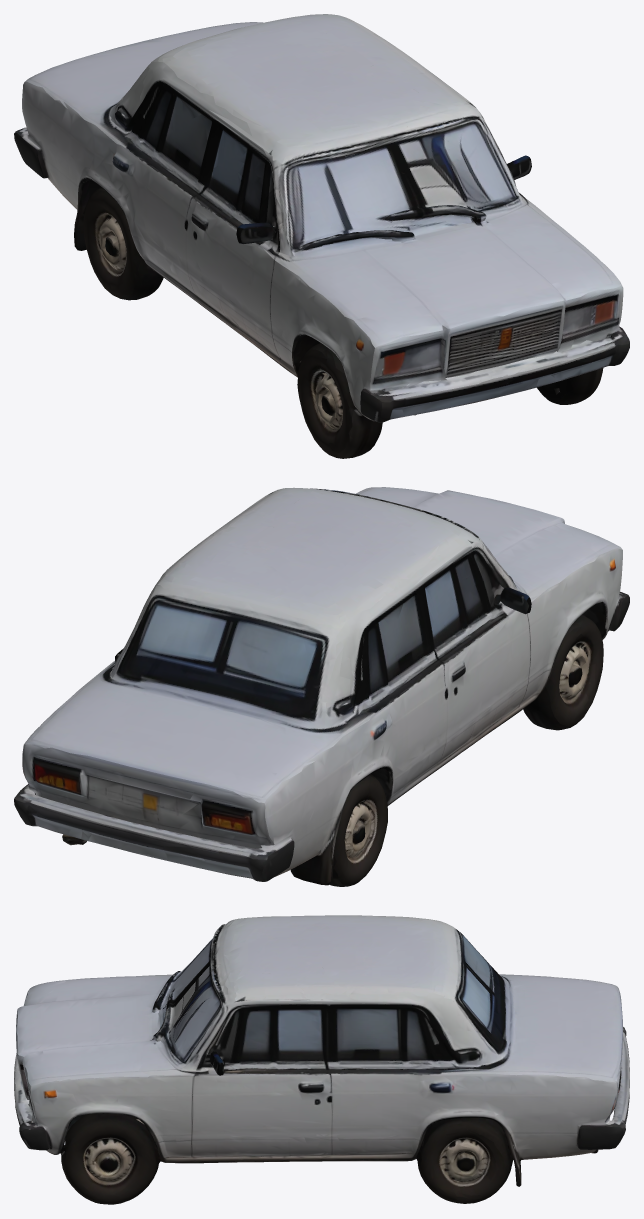
Rendered from lada.glb.
The picture shows the model from 3 angles, top to bottom: view 1: azimuth 30°, elevation 25°; view 2: azimuth 150°, elevation 25°; view 3: azimuth 270°, elevation 25°; orthographic projection. The views are drawn at different scales.
Parts seen in each view (by area): view 1: body, wheel_FR, wheel_RR, wheel_FL; view 2: body, wheel_FR, wheel_RR; view 3: body, wheel_FL, wheel_RL.
Boxes of the visible parts, x1,y1,x2,y2 form: body: [14, 14, 629, 432]; wheel_FR: [298, 360, 382, 458]; wheel_RR: [84, 208, 160, 300]; wheel_FL: [537, 370, 602, 404]; body: [14, 487, 629, 885]; wheel_FR: [526, 631, 603, 730]; wheel_RR: [329, 793, 387, 886]; body: [14, 915, 629, 1188]; wheel_FL: [65, 1133, 157, 1204]; wheel_RL: [422, 1134, 510, 1203].
Size of what is drawn, in the model's own units: 1.9 by 1.59 by 4.2.
Materials: 1 (1 with a texture image).
